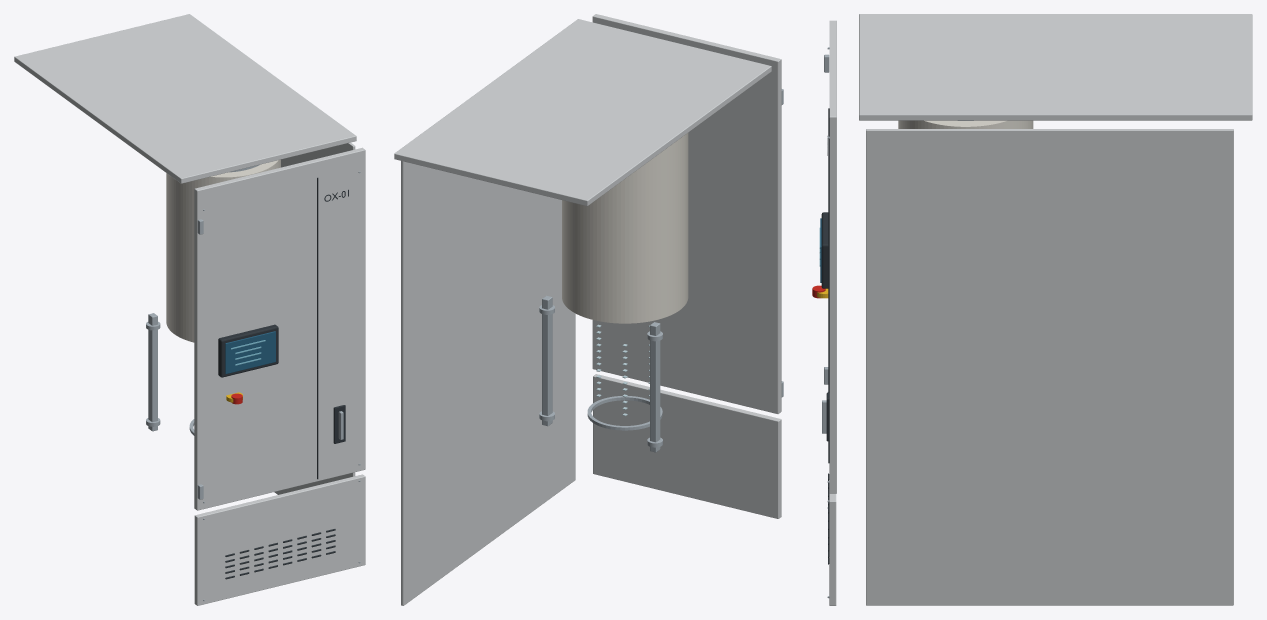
File: Oxidation_Detailed_Addon.fbx
3 views of the same model, side by side, from view 1: azimuth 30°, elevation 25°; view 2: azimuth 150°, elevation 25°; view 3: azimuth 270°, elevation 25° (orthographic). The views are drawn at different scales.
Parts seen in each view (by area): view 1: OXD_CUT_MainDoor, OXD_CUT_TopLid, OXD_CUT_LowerService, OXD_CUT_Insulation_Front, OXD_CUT_HmiGlass, OXD_Insulation_Rear, OXD_InternalRail, OXD_CUT_SideSeam, OXD_CUT_HmiBezel, OXD_CUT_VerticalSeam; view 2: OXD_CUT_SideSeam, OXD_CUT_TopLid, OXD_CUT_MainDoor, OXD_CUT_LowerService, OXD_Insulation_Rear, OXD_CUT_Insulation_Front, OXD_InternalRail.001, OXD_InternalRail, OXD_BoatBaseRim; view 3: OXD_CUT_SideSeam, OXD_CUT_TopLid, OXD_CUT_MainDoor, OXD_CUT_LowerService, OXD_CUT_VerticalSeam, OXD_CUT_HmiBezel, OXD_Insulation_Rear, OXD_CUT_Insulation_Front.
Boxes of the visible parts, x1,y1,x2,y2 form: OXD_CUT_MainDoor: (194,147,365,510); OXD_CUT_TopLid: (14,14,356,183); OXD_CUT_LowerService: (194,474,365,605); OXD_CUT_Insulation_Front: (174,159,280,342); OXD_CUT_HmiGlass: (225,331,275,373); OXD_Insulation_Rear: (166,173,173,333); OXD_InternalRail: (148,313,157,431); OXD_CUT_SideSeam: (274,142,355,494); OXD_CUT_HmiBezel: (218,324,278,377); OXD_CUT_VerticalSeam: (317,177,318,479); OXD_CUT_SideSeam: (401,161,575,605); OXD_CUT_TopLid: (394,19,771,206); OXD_CUT_MainDoor: (592,14,781,413); OXD_CUT_LowerService: (593,374,781,518); OXD_Insulation_Rear: (562,139,679,323); OXD_CUT_Insulation_Front: (680,133,688,309); OXD_InternalRail.001: (542,295,552,426); OXD_InternalRail: (650,322,660,452); OXD_BoatBaseRim: (587,396,662,430); OXD_CUT_SideSeam: (866,129,1233,605); OXD_CUT_TopLid: (859,14,1252,120); OXD_CUT_MainDoor: (829,20,836,493); OXD_CUT_LowerService: (829,463,836,605); OXD_CUT_VerticalSeam: (828,108,829,463); OXD_CUT_HmiBezel: (821,212,828,288); OXD_Insulation_Rear: (965,120,1033,128); OXD_CUT_Insulation_Front: (898,120,965,128).
Size of the model in its own units: 123 by 278 by 225.
